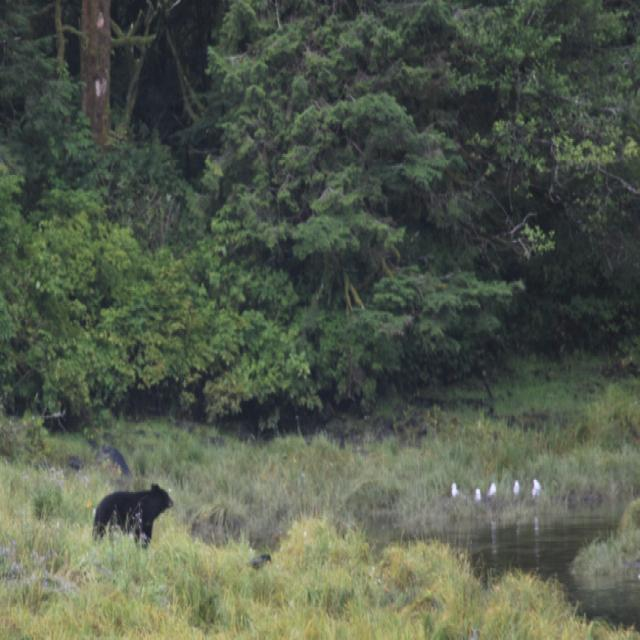Bear: (88, 477, 176, 545)
